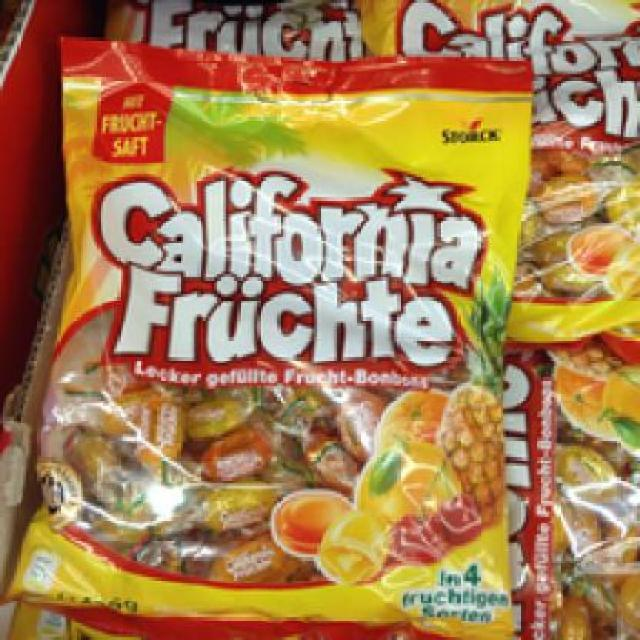Candy: (34, 26, 523, 623)
